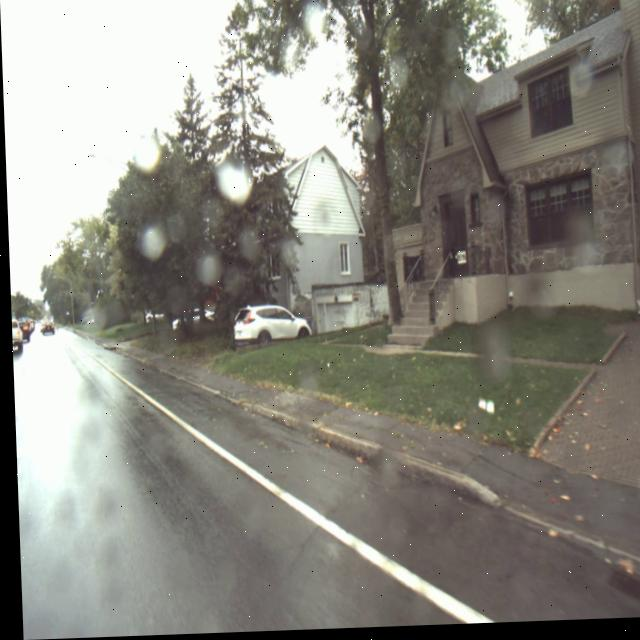car: (231, 306, 310, 349), (10, 319, 20, 354), (39, 320, 53, 336)
